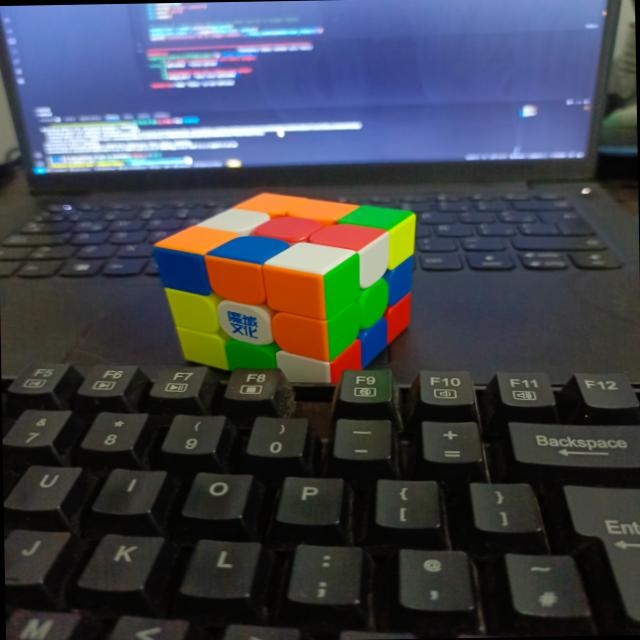rubik: (150, 187, 420, 385)
